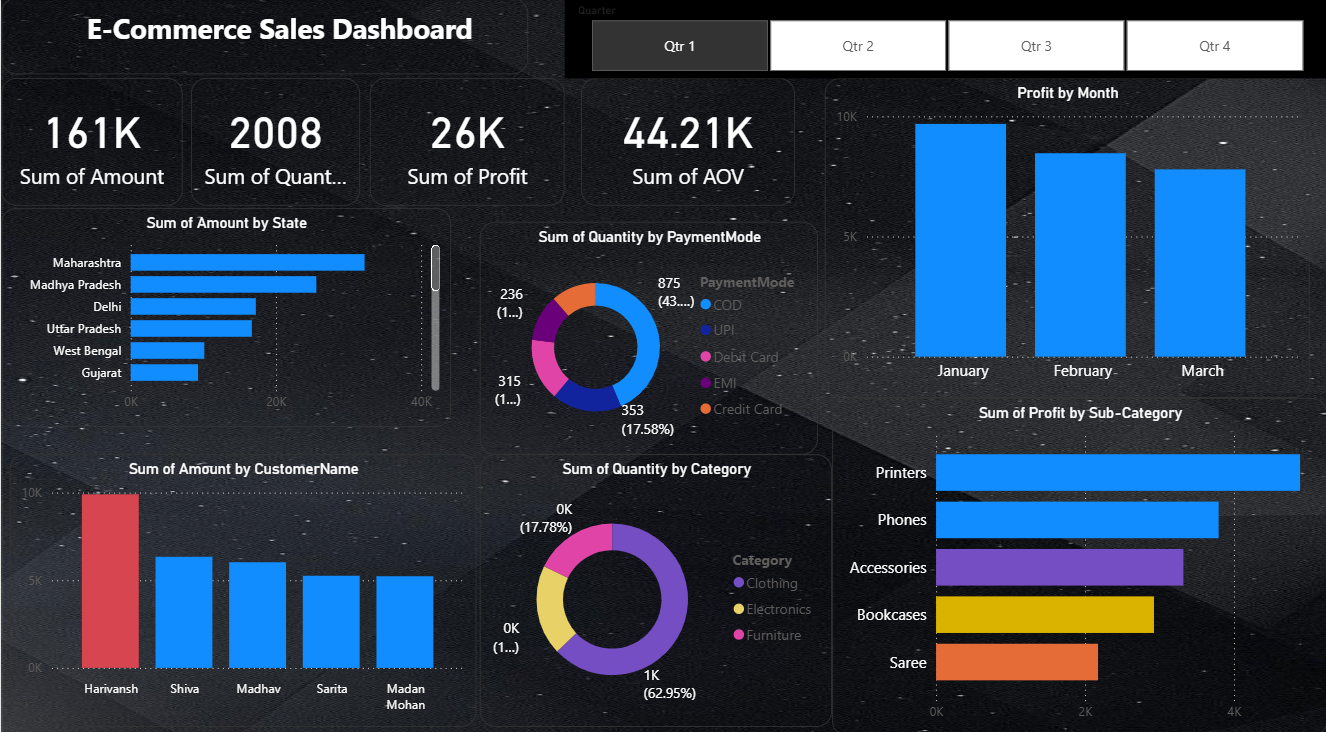

This screenshot's page, from the dashboard's own definition file:
{"tool":"powerbi","page":{"name":"Page 1","canvas":[1280,720],"ordinal":0},"visuals":[{"type":"textbox","box":[0,0,509.1,73.6],"z":0},{"type":"columnChart","title":" Profit by Month","fields":{"Category":["Orders.Order Date.Variation.Date Hierarchy.Month"],"Y":["Sum(Details.Profit)"]},"box":[794.5,76.8,467.9,308.7],"z":1000},{"type":"barChart","fields":{"Category":["Details.Sub-Category"],"Y":["Sum(Details.Profit)"]},"box":[802.9,386.5,477.4,326.8],"z":2000},{"type":"donutChart","fields":{"Category":["Details.Category"],"Y":["Sum(Details.Quantity)"]},"box":[462.1,440.4,340.2,263],"z":3000},{"type":"donutChart","fields":{"Category":["Details.PaymentMode"],"Y":["Sum(Details.Quantity)"]},"box":[462.4,215.4,326.6,225],"z":4000},{"type":"card","fields":{"Values":["Sum(Details.Amount)"]},"box":[0,77.2,174.9,123.1],"z":5000},{"type":"card","fields":{"Values":["Sum(Details.Quantity)"]},"box":[183.4,77.2,162.9,123.1],"z":6000},{"type":"card","fields":{"Values":["Sum(Details.Profit)"]},"box":[355.9,77.2,188.2,123.1],"z":7000},{"type":"card","fields":{"Values":["Sum(Details.AOV)"]},"box":[559.8,77.2,206.3,123.1],"z":8000},{"type":"barChart","fields":{"Category":["Orders.State"],"Y":["Sum(Details.Amount)"]},"box":[0,202.7,434.3,211.1],"z":9000},{"type":"columnChart","fields":{"Category":["Orders.CustomerName"],"Y":["Sum(Details.Amount)"]},"box":[8.4,440.4,450,263],"z":10000},{"type":"slicer","fields":{"Values":["Orders.Order Date.Variation.Date Hierarchy.Quarter"]},"box":[543.8,0,736.4,77.3],"z":11000}]}

Visuals, with their boxes in screenshot pixels (x1, y1, x2, y2), scaled from the page's 1280x720 canvas onto the 1326x732 screenshot:
textbox: [x1=0, y1=0, x2=527, y2=75]
" Profit by Month" columnChart: [x1=823, y1=78, x2=1308, y2=392]
barChart - Details.Sub-Category x Sum(Details.Profit): [x1=832, y1=393, x2=1325, y2=725]
donutChart - Details.Category x Sum(Details.Quantity): [x1=479, y1=448, x2=831, y2=715]
donutChart - Details.PaymentMode x Sum(Details.Quantity): [x1=479, y1=219, x2=817, y2=448]
card - Sum(Details.Amount): [x1=0, y1=78, x2=181, y2=204]
card - Sum(Details.Quantity): [x1=190, y1=78, x2=359, y2=204]
card - Sum(Details.Profit): [x1=369, y1=78, x2=564, y2=204]
card - Sum(Details.AOV): [x1=580, y1=78, x2=794, y2=204]
barChart - Orders.State x Sum(Details.Amount): [x1=0, y1=206, x2=450, y2=421]
columnChart - Orders.CustomerName x Sum(Details.Amount): [x1=9, y1=448, x2=475, y2=715]
slicer - Orders.Order Date.Variation.Date Hierarchy.Quarter: [x1=563, y1=0, x2=1325, y2=79]
